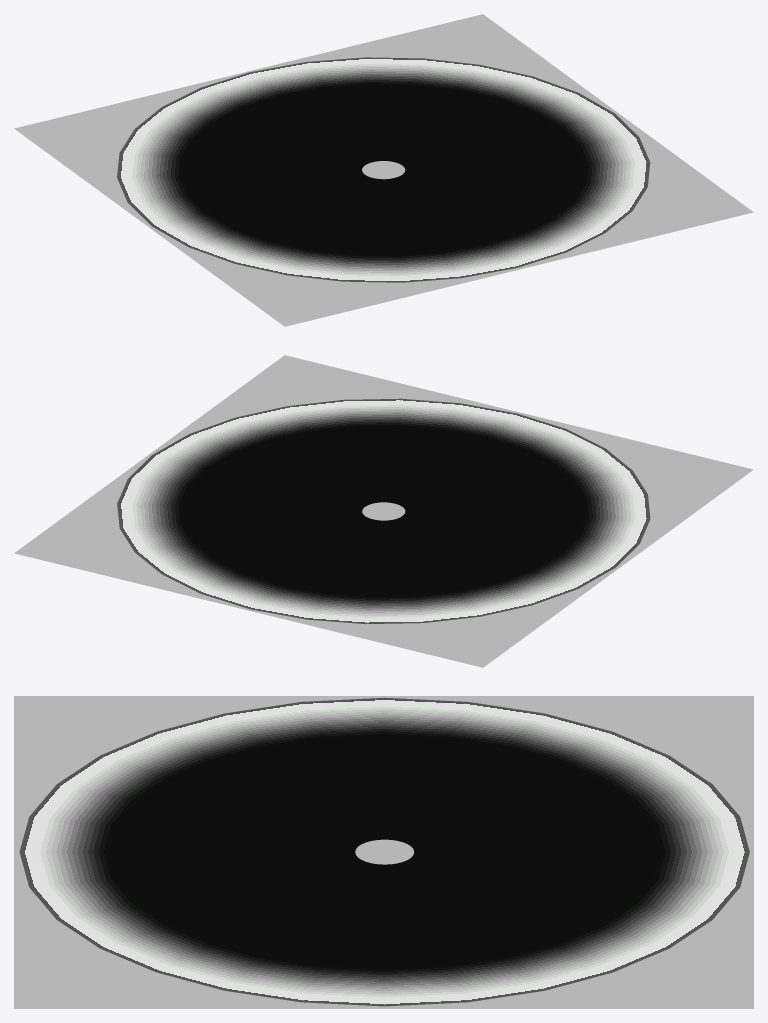
The model's file is skilltips_yuan.FBX.
3 views of the same model, one above another, from view 1: azimuth 30°, elevation 25°; view 2: azimuth 150°, elevation 25°; view 3: azimuth 270°, elevation 25° (orthographic). The views are drawn at different scales.
Visible parts, largest first — view 1: yuan; view 2: yuan; view 3: yuan.
Part boxes in pixels (x1,y1,x2,y2): yuan: (14, 14, 753, 326); yuan: (14, 355, 753, 667); yuan: (14, 696, 753, 1008).
Size of the model in its own units: 2 by 0.00097 by 2.
